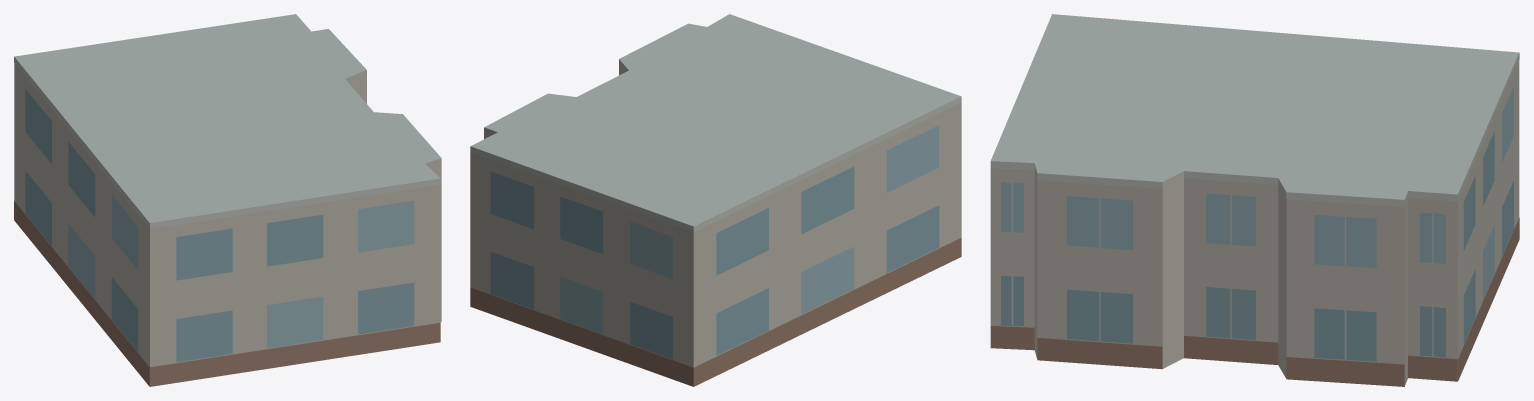
The model's file is survey-upis-32675568.glb.
3 views of the same model, side by side, from view 1: azimuth 30°, elevation 25°; view 2: azimuth 150°, elevation 25°; view 3: azimuth 270°, elevation 25° (orthographic). The views are drawn at different scales.
Parts seen in each view (by area): view 1: survey-upis-32675568.tmp; view 2: survey-upis-32675568.tmp; view 3: survey-upis-32675568.tmp.
Boxes of the visible parts, x1=… form: survey-upis-32675568.tmp: x1=14, y1=14, x2=441, y2=386; survey-upis-32675568.tmp: x1=470, y1=14, x2=961, y2=386; survey-upis-32675568.tmp: x1=990, y1=14, x2=1519, y2=386.
Size of the model in its own units: 13.86 by 6.5 by 16.67.
